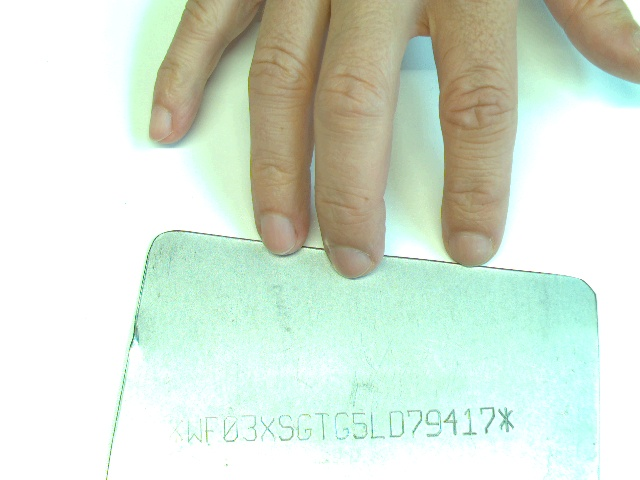0: (221, 413, 242, 443)
1: (463, 407, 478, 436)
3: (241, 413, 260, 443)
4: (443, 408, 460, 437)
5: (351, 411, 368, 440)
7: (405, 407, 423, 440), (478, 406, 496, 434)
9: (424, 406, 443, 440)
d: (387, 408, 405, 440)
f: (203, 415, 219, 444)
g: (332, 411, 352, 441), (295, 413, 313, 442)
l: (367, 410, 386, 441)
s: (278, 413, 295, 442)
t: (313, 411, 331, 441)
w: (185, 416, 205, 444)
x: (259, 415, 277, 444)
